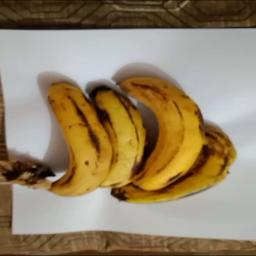Banana Semifresh: (119, 64, 236, 200), (3, 76, 110, 195), (85, 68, 149, 200)
